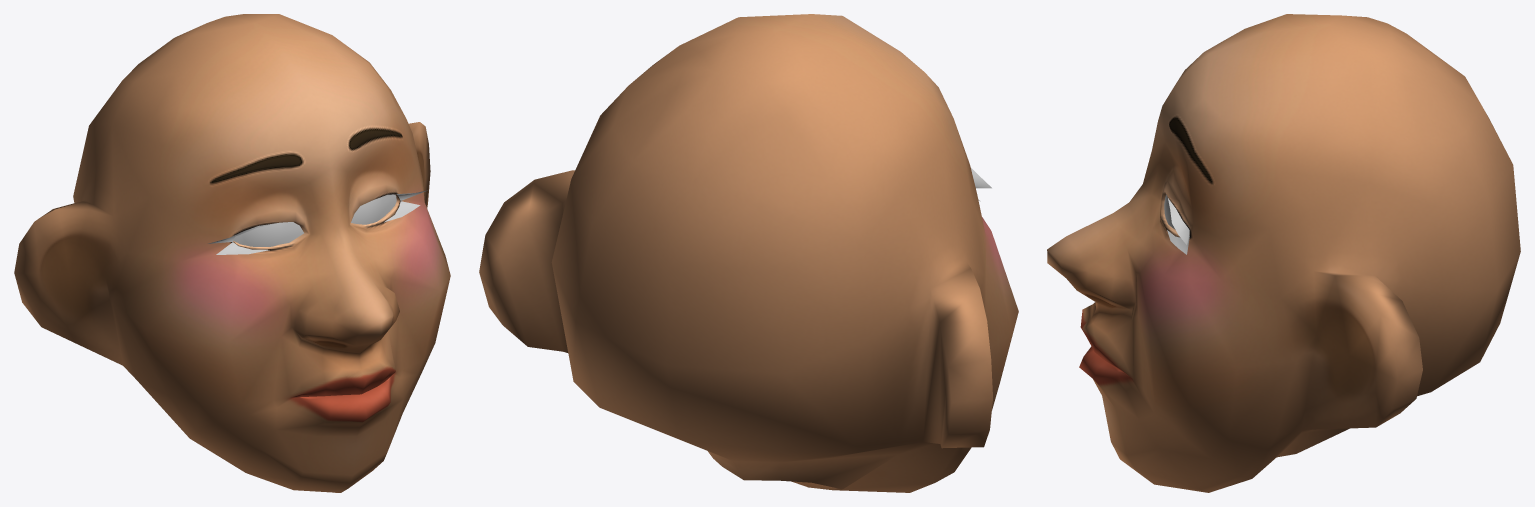
Rendered from F_pose16.fbx.
3 renders of one model, left to right at view 1: azimuth 30°, elevation 25°; view 2: azimuth 150°, elevation 25°; view 3: azimuth 270°, elevation 25°, orthographic. The views are drawn at different scales.
Visible parts, largest first — view 1: HEAD; view 2: HEAD; view 3: HEAD.
Part boxes in pixels (box(x1,y1,x2,y2)): HEAD: box(14, 14, 450, 492); HEAD: box(479, 14, 1018, 492); HEAD: box(1047, 14, 1520, 492).
Size of the model in its own units: 27.45 by 25.83 by 24.63.
